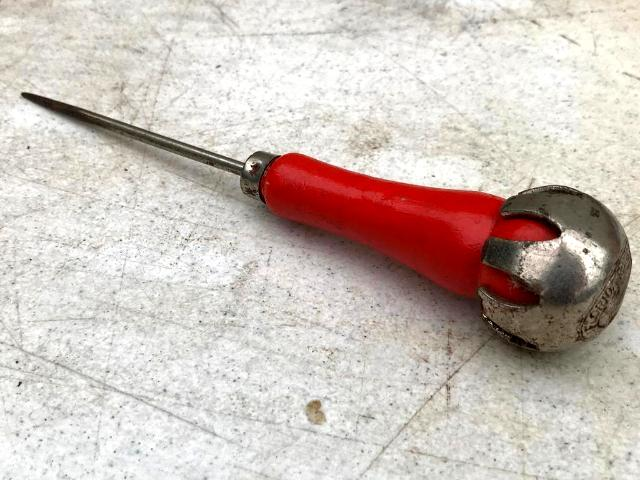ice pick: (19, 90, 630, 354)
